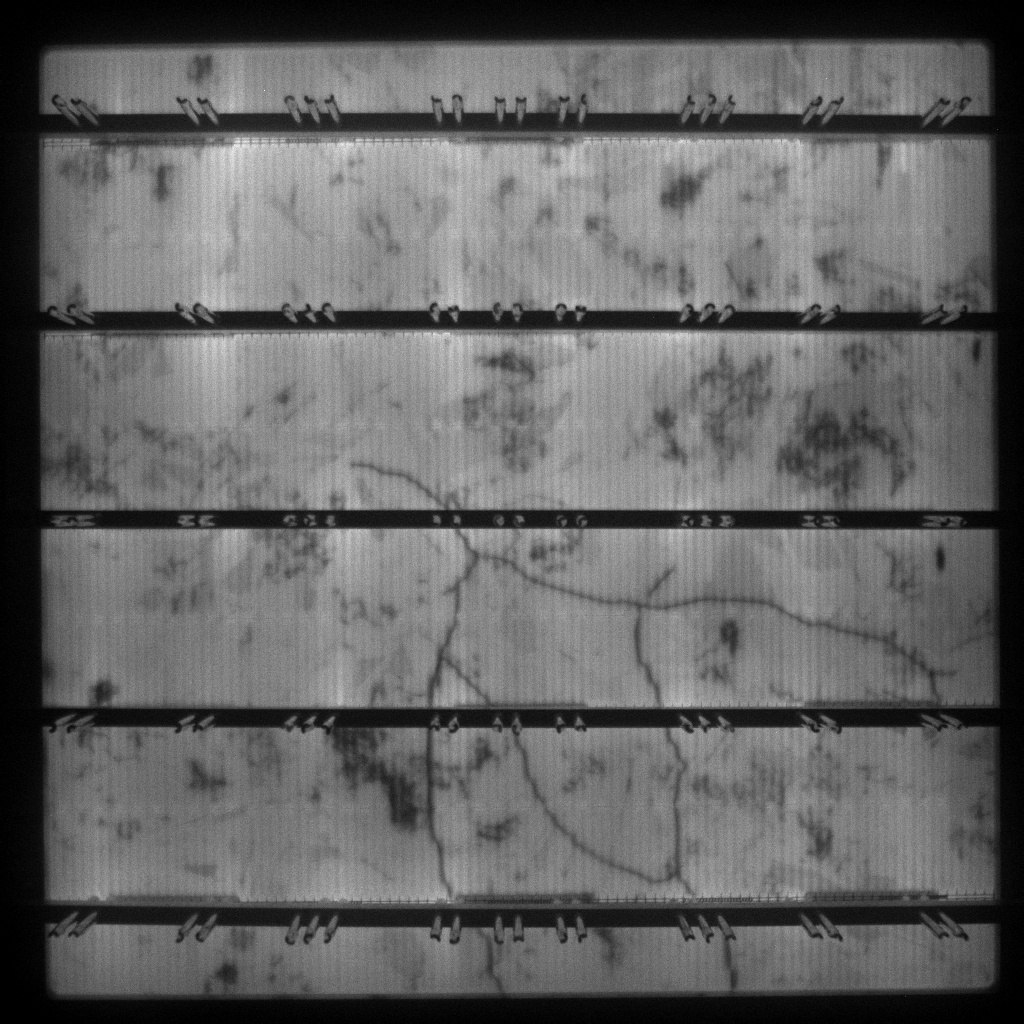crack: (420, 531, 946, 696), (512, 737, 696, 890), (421, 732, 455, 894), (348, 457, 453, 507), (474, 948, 507, 992), (719, 941, 742, 993)
